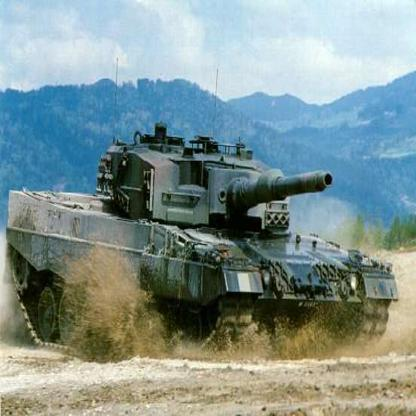Tank: (3, 101, 405, 363)
